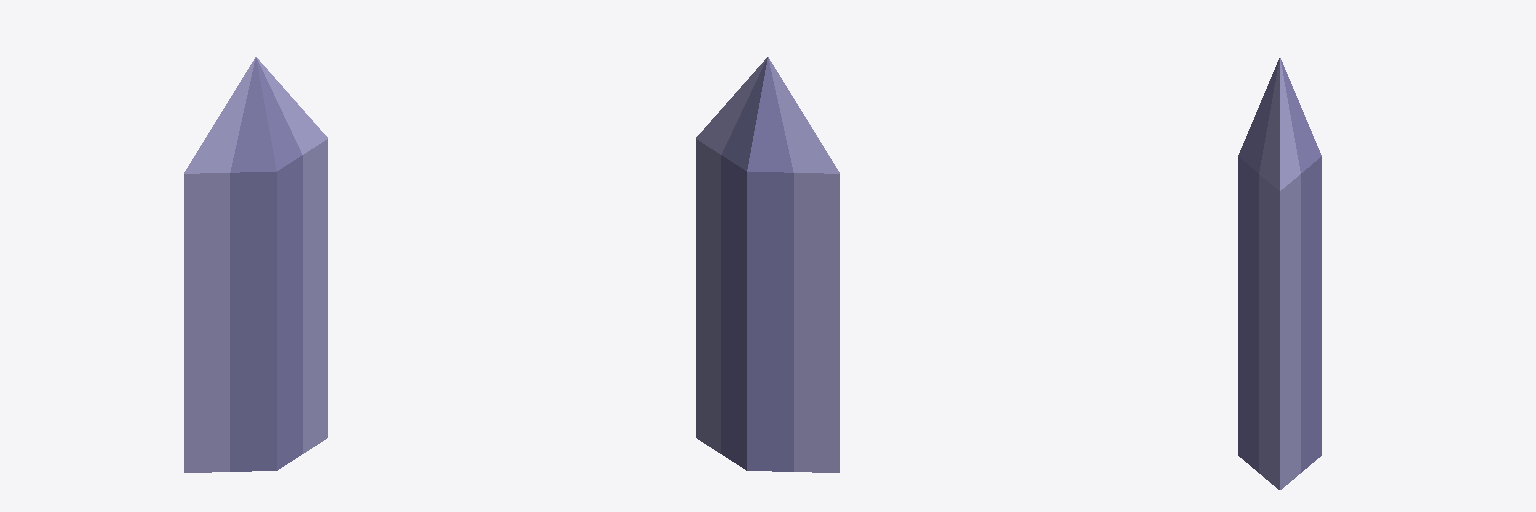
File: sword_tip.obj
3 views of the same model, side by side, from view 1: azimuth 30°, elevation 25°; view 2: azimuth 150°, elevation 25°; view 3: azimuth 270°, elevation 25° (orthographic).
Visible parts, largest first — view 1: mergedBlocks; view 2: mergedBlocks; view 3: mergedBlocks.
Part boxes in pixels (x1,y1,x2,y2): mergedBlocks: (184, 57, 327, 472); mergedBlocks: (696, 57, 839, 472); mergedBlocks: (1238, 58, 1321, 489).
Bounding box in the file's own units: 0.0038 × 0.01 × 0.0019.